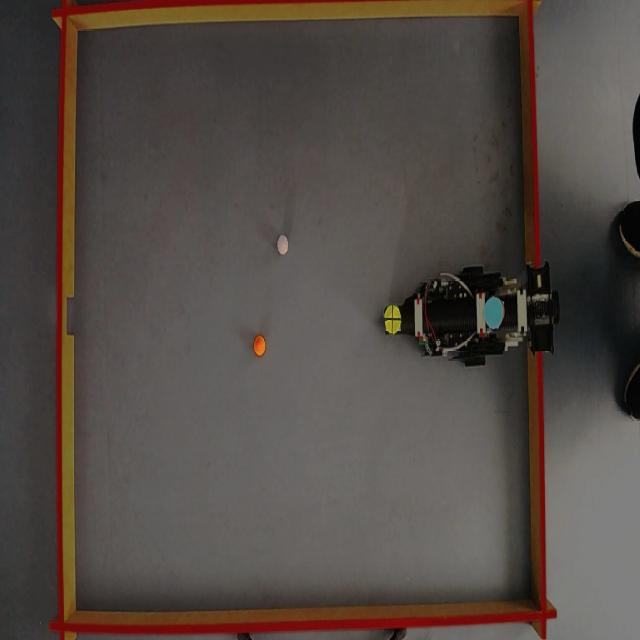orange: (254, 335, 266, 356)
robot: (388, 264, 556, 368)
robot-front: (384, 304, 402, 336)
robot-rear: (484, 292, 505, 329)
white: (278, 238, 290, 255)
